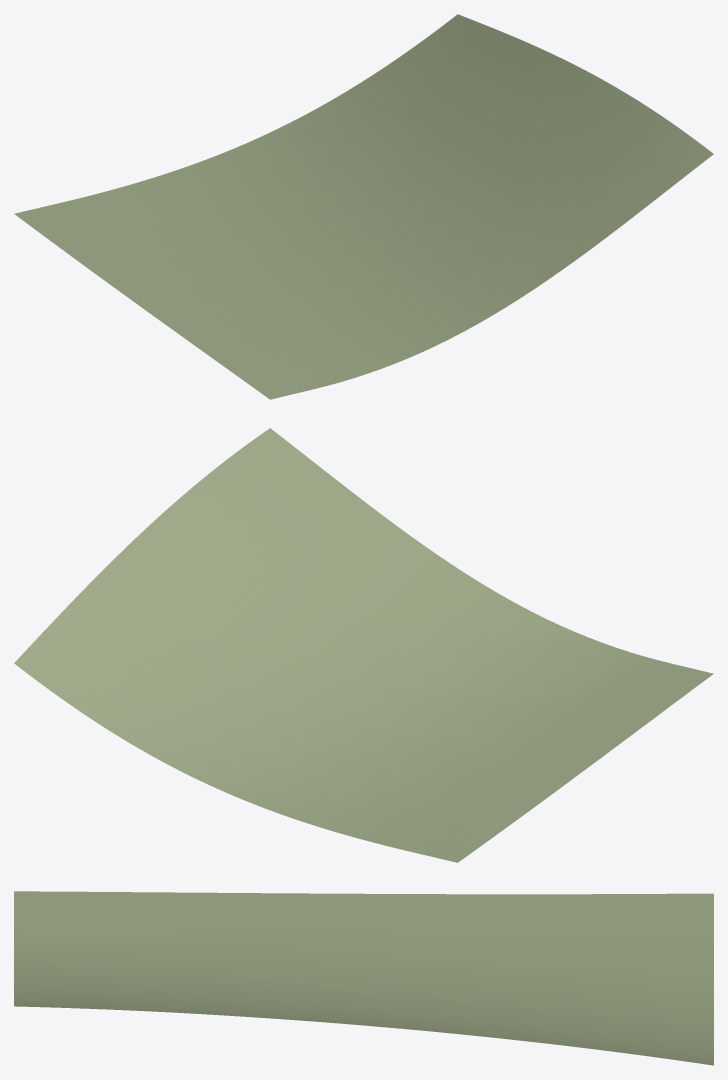
The model's file is expanse-21-22.glb.
3 views of the same model, one above another, from view 1: azimuth 30°, elevation 25°; view 2: azimuth 150°, elevation 25°; view 3: azimuth 270°, elevation 25° (orthographic). The views are drawn at different scales.
Parts seen in each view (by area): view 1: expanse-21-22; view 2: expanse-21-22; view 3: expanse-21-22.
Boxes of the visible parts, x1,y1,x2,y2 form: expanse-21-22: [14, 14, 713, 399]; expanse-21-22: [14, 428, 713, 862]; expanse-21-22: [14, 891, 713, 1065].
Bounding box in the file's own units: 256 × 77.39 × 256.
